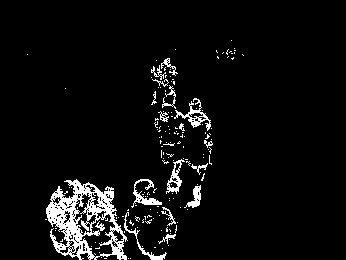person: (125, 177, 176, 260), (183, 98, 212, 208), (157, 95, 184, 192), (148, 54, 181, 110)
